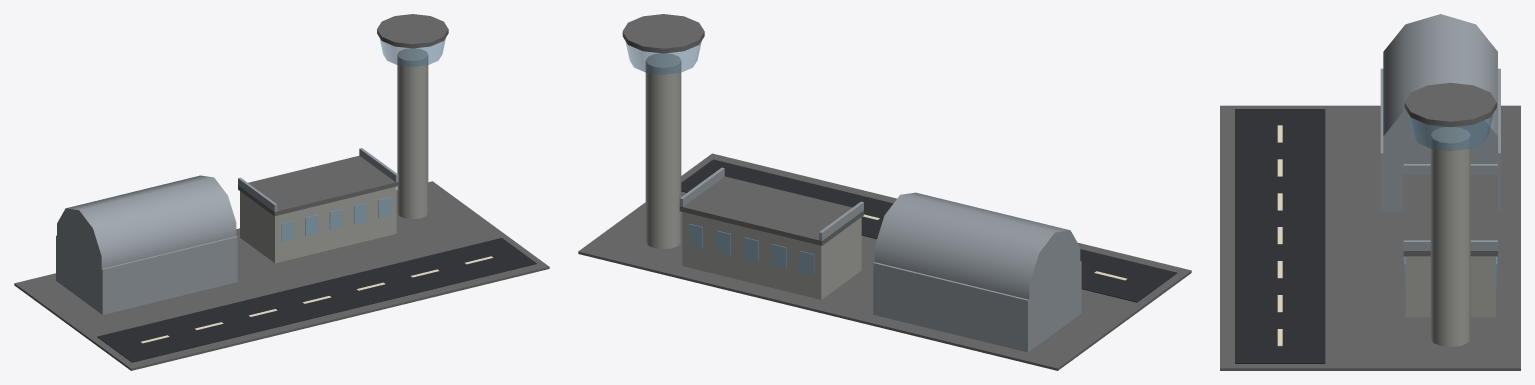
The model's file is bld_special_airport_a07.glb.
The picture shows the model from 3 angles, left to right: view 1: azimuth 30°, elevation 25°; view 2: azimuth 150°, elevation 25°; view 3: azimuth 270°, elevation 25°; orthographic projection. The views are drawn at different scales.
Visible parts, largest first — view 1: body; view 2: body; view 3: body.
Part boxes in pixels (<box>): body: <box>14,14,549,370</box>; body: <box>578,14,1191,370</box>; body: <box>1220,14,1520,370</box>.
Size of what is drawn, in the model's own units: 31 by 13.15 by 15.
